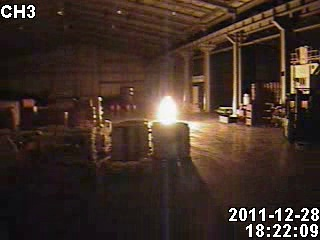fire: (155, 94, 179, 127)
